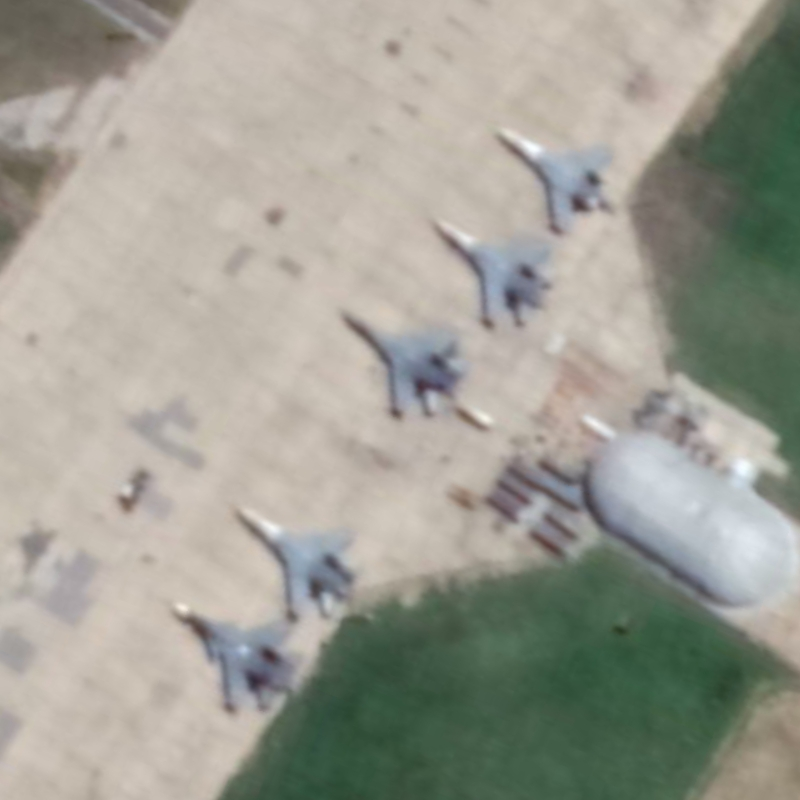A1: (234, 502, 369, 619), (339, 304, 473, 417), (492, 121, 622, 234), (430, 214, 557, 328)
A19: (167, 597, 308, 713)
